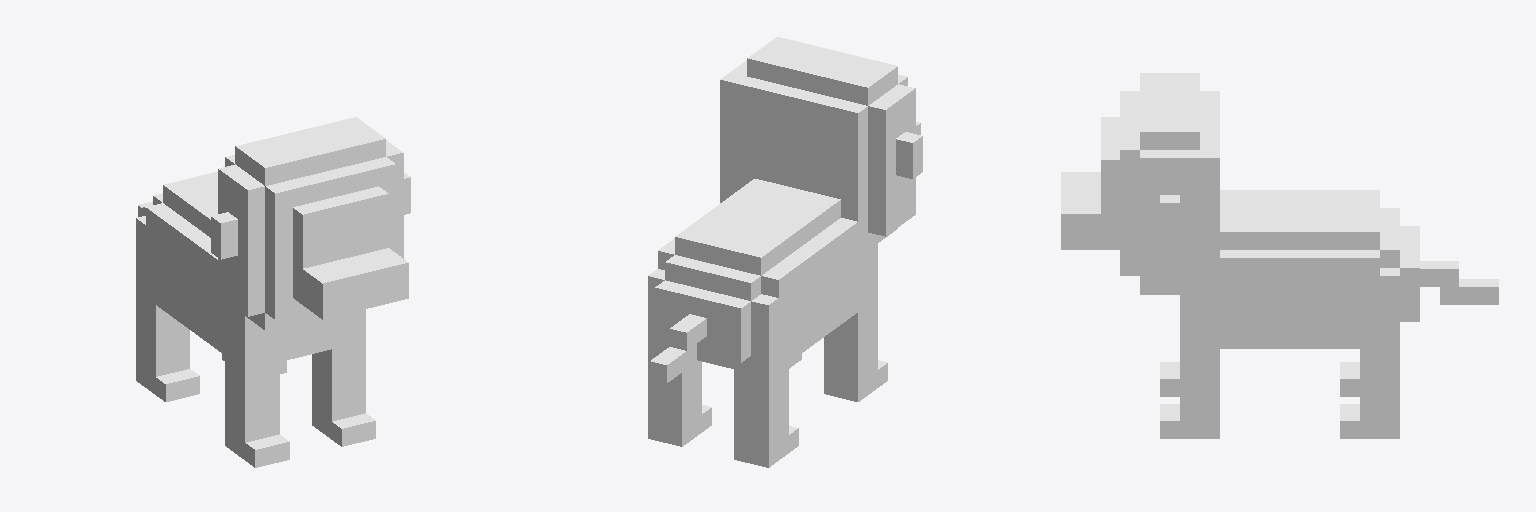
Rendered from lion.obj.
3 views of the same model, side by side, from view 1: azimuth 30°, elevation 25°; view 2: azimuth 150°, elevation 25°; view 3: azimuth 270°, elevation 25° (orthographic).
Parts seen in each view (by area): view 1: object 1; view 2: object 1; view 3: object 1.
Part boxes in pixels (bbox=[...]): object 1: bbox=[136, 117, 410, 467]; object 1: bbox=[648, 37, 922, 467]; object 1: bbox=[1061, 73, 1498, 438].
Size of the model in its own units: 1.1 by 1.7 by 2.2.